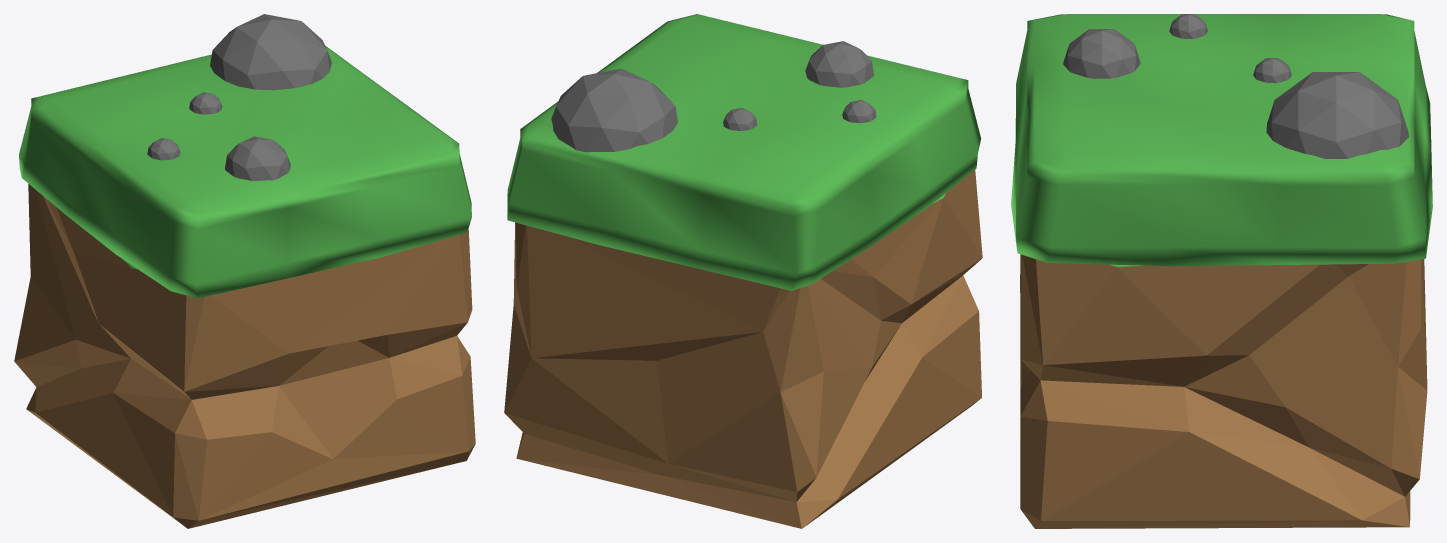
The model's file is TileBaseVar1.fbx.
3 renders of one model, left to right at view 1: azimuth 30°, elevation 25°; view 2: azimuth 150°, elevation 25°; view 3: azimuth 270°, elevation 25°, orthographic. The views are drawn at different scales.
Visible parts, largest first — view 1: Cube.004; view 2: Cube.004; view 3: Cube.004.
Part boxes in pixels (x1=…): Cube.004: x1=14, y1=14, x2=475, y2=528; Cube.004: x1=504, y1=14, x2=982, y2=528; Cube.004: x1=1011, y1=14, x2=1432, y2=528.
Bounding box in the file's own units: 102 × 115 × 105.
